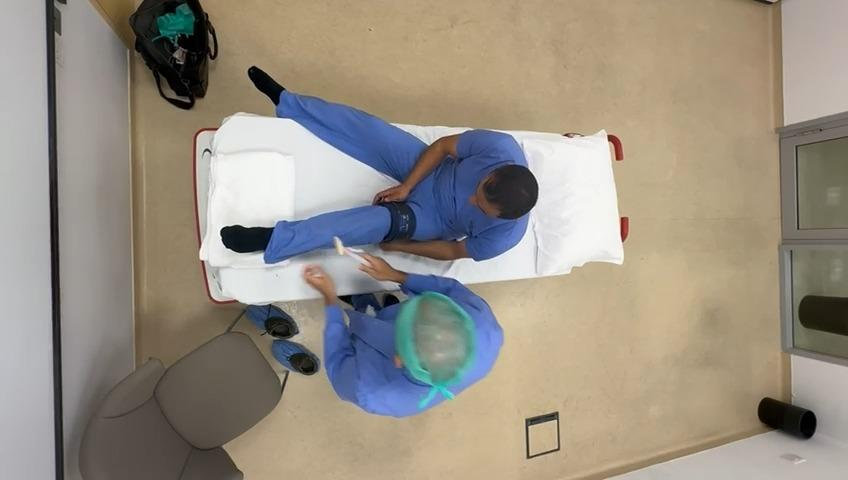bed: (192, 116, 626, 302)
patient: (222, 66, 537, 263)
prepstick: (333, 237, 369, 265)
tourniquet: (378, 202, 416, 243)
